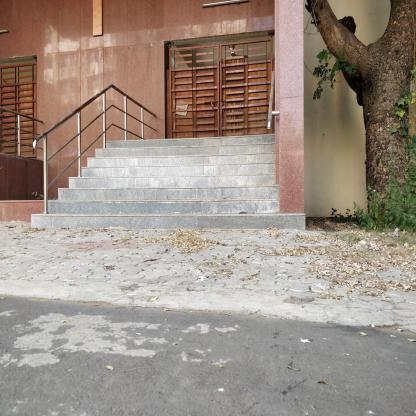stairs: (95, 148, 275, 235)
